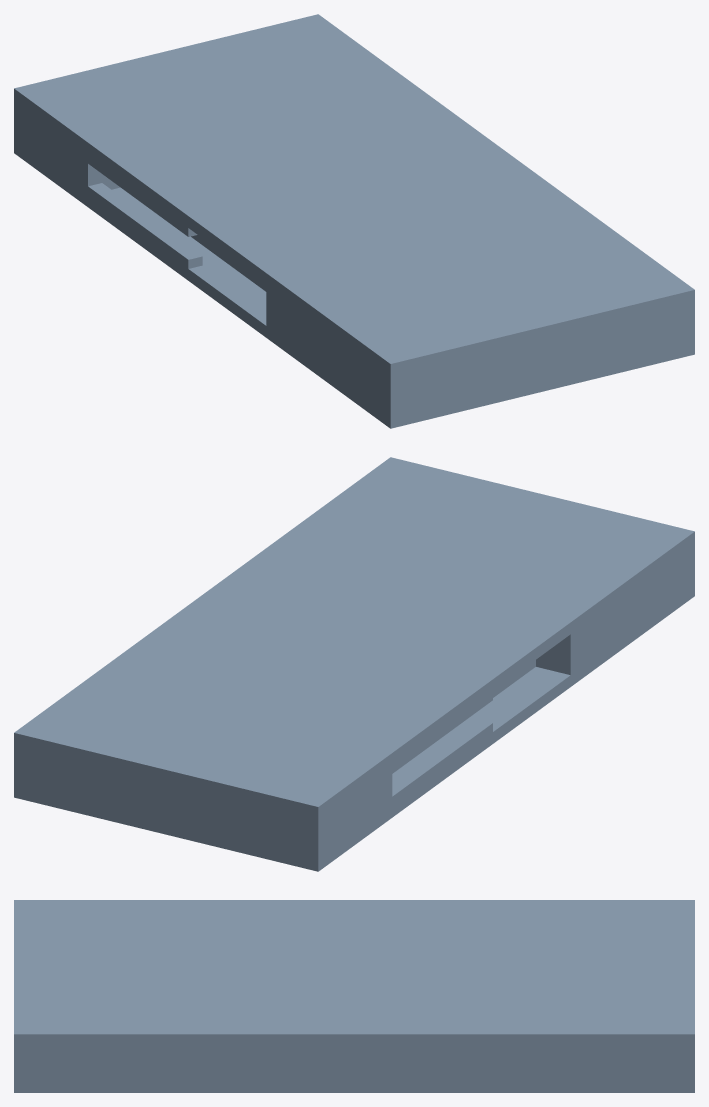
Rendered from right.glb.
3 views of the same model, one above another, from view 1: azimuth 30°, elevation 25°; view 2: azimuth 150°, elevation 25°; view 3: azimuth 270°, elevation 25° (orthographic). The views are drawn at different scales.
Parts seen in each view (by area): view 1: right_floor; view 2: right_floor; view 3: right_floor.
Part boxes in pixels (left/top/right/bottom): right_floor: left=14, top=14, right=694, bottom=428; right_floor: left=14, top=457, right=694, bottom=871; right_floor: left=14, top=900, right=694, bottom=1092.
Size of the model in its own units: 0.028 by 0.00569 by 0.06.
